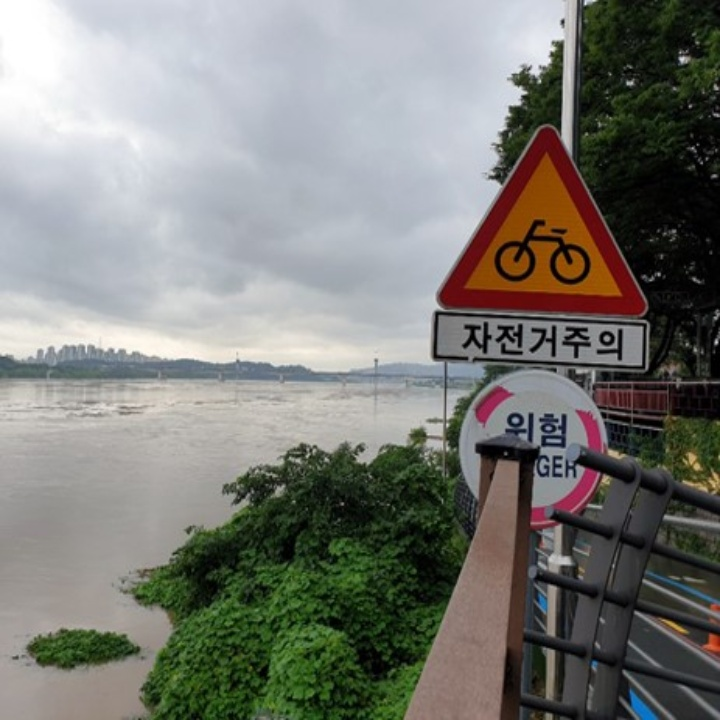bicycle: (435, 125, 647, 323)
